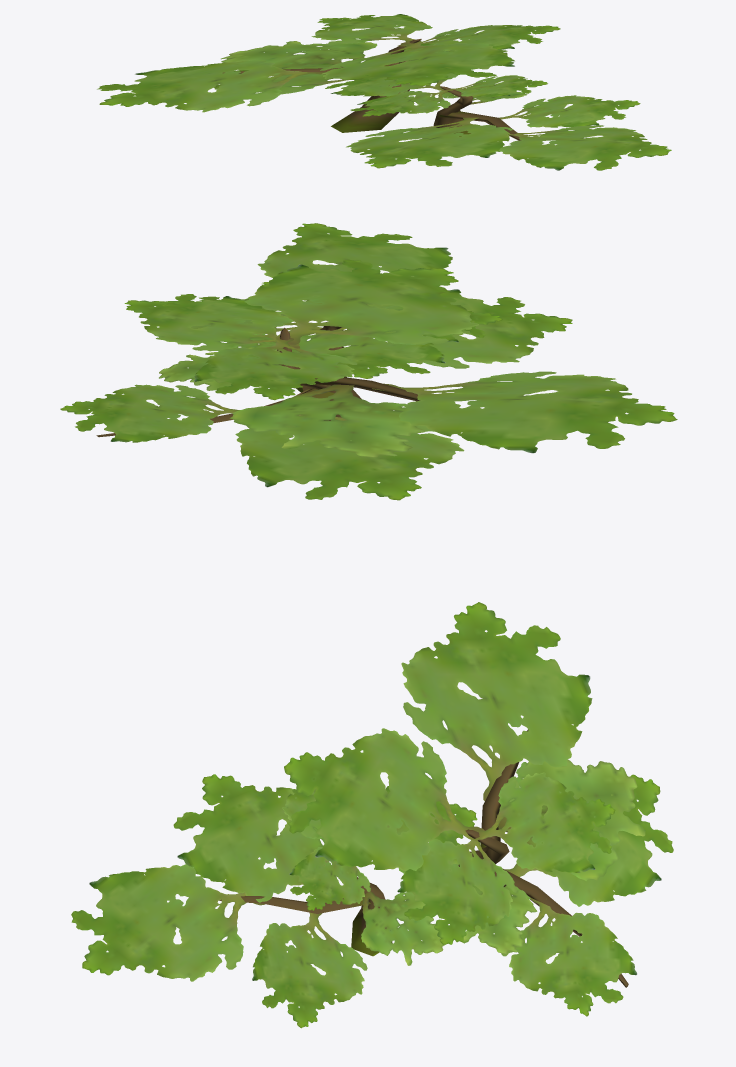
The model's file is liemo_plant_07 (14) #65350119.fbx.
3 renders of one model, top to bottom at view 1: azimuth 30°, elevation 25°; view 2: azimuth 150°, elevation 25°; view 3: azimuth 270°, elevation 25°, orthographic. The views are drawn at different scales.
Parts seen in each view (by area): view 1: liemo_plant_07 (14); view 2: liemo_plant_07 (14); view 3: liemo_plant_07 (14).
Boxes of the visible parts, left/top/right/bottom form: liemo_plant_07 (14): left=97, top=14, right=671, bottom=170; liemo_plant_07 (14): left=60, top=223, right=677, bottom=500; liemo_plant_07 (14): left=71, top=602, right=673, bottom=1028.
Bounding box in the file's own units: 7.15 × 1.19 × 5.53.
